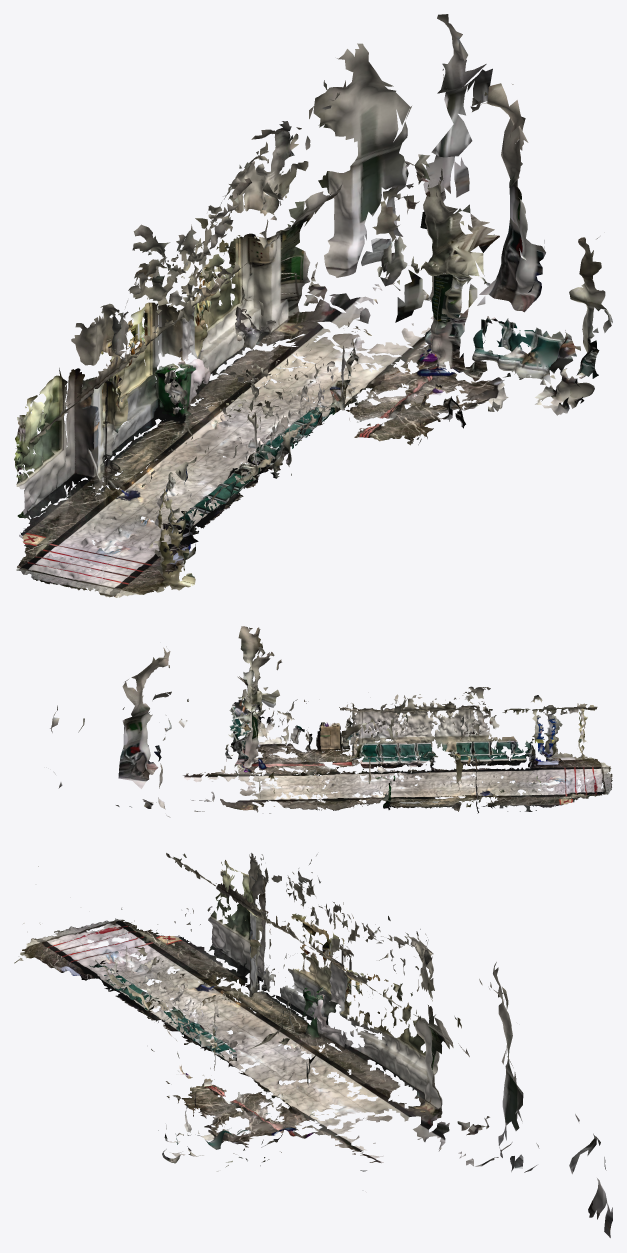
The model's file is 140518-LorongTurunanMasjid-tex.glb.
3 views of the same model, one above another, from view 1: azimuth 30°, elevation 25°; view 2: azimuth 150°, elevation 25°; view 3: azimuth 270°, elevation 25° (orthographic). The views are drawn at different scales.
Visible parts, largest first — view 1: Node; view 2: Node; view 3: Node.
Boxes of the visible parts, bbox=[...] form: Node: bbox=[14, 14, 612, 597]; Node: bbox=[50, 626, 612, 817]; Node: bbox=[14, 853, 612, 1237].
Bounding box in the file's own units: 15.41 × 4.77 × 12.48.
Materials: 23 (23 with a texture image).
